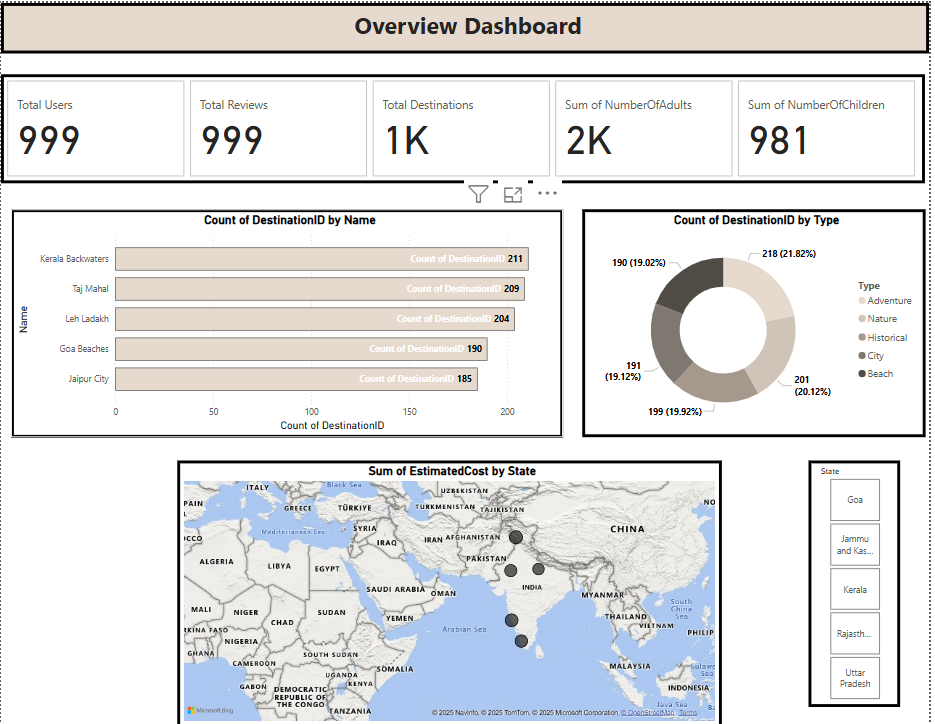

The page's visual inventory and layout, read from the dashboard file:
{"tool":"powerbi","page":{"name":" Overview Dashboard","canvas":[1280,1000],"ordinal":1},"visuals":[{"type":"textbox","box":[0,0,1280.3,69.2],"z":0},{"type":"cardVisual","fields":{"Data":["Users.Total Users","Reviews.Total Reviews","Destinations_With_Cost.Total Destinations","Sum(Users.NumberOfAdults)","Sum(Users.NumberOfChildren)"]},"box":[0,98.9,1274.3,150.2],"z":1000},{"type":"barChart","fields":{"Category":["Destinations_With_Cost.Name"],"Y":["CountNonNull(UserHistory.DestinationID)"]},"box":[14.1,284,761.7,315.1],"z":2000},{"type":"map","fields":{"Category":["Destinations_With_Cost.State"],"Size":["Sum(Destinations_With_Cost.EstimatedCost)"]},"box":[243.2,631.8,751,368.3],"z":3000},{"type":"donutChart","fields":{"Category":["Destinations_With_Cost.Type"],"Y":["CountNonNull(Reviews.DestinationID)"]},"box":[801,283.7,473.2,314.7],"z":4000},{"type":"slicer","fields":{"Values":["Destinations_With_Cost.State"]},"box":[1113.4,631.8,126.4,339.7],"z":5000}]}

Visuals, with their boxes in screenshot pixels (x1, y1, x2, y2), scaled from the page's 1280x1000 canvas onto the 935x724 screenshot:
textbox: Rect(0, 0, 934, 50)
cardVisual - Users.Total Users x Reviews.Total Reviews: Rect(0, 72, 931, 180)
barChart - Destinations_With_Cost.Name x CountNonNull(UserHistory.DestinationID): Rect(10, 206, 567, 434)
map - Destinations_With_Cost.State x Sum(Destinations_With_Cost.EstimatedCost): Rect(178, 457, 726, 723)
donutChart - Destinations_With_Cost.Type x CountNonNull(Reviews.DestinationID): Rect(585, 205, 931, 433)
slicer - Destinations_With_Cost.State: Rect(813, 457, 906, 703)
